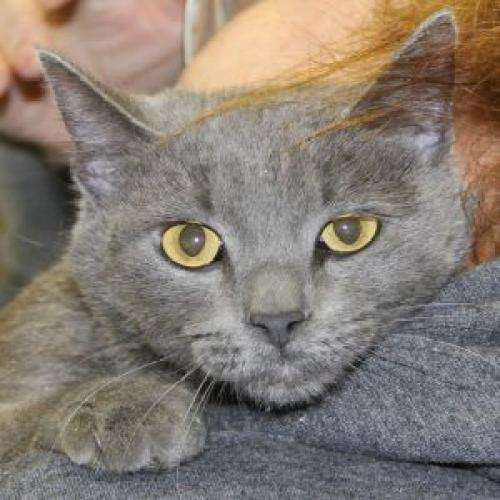rblue: (29, 14, 500, 427)
